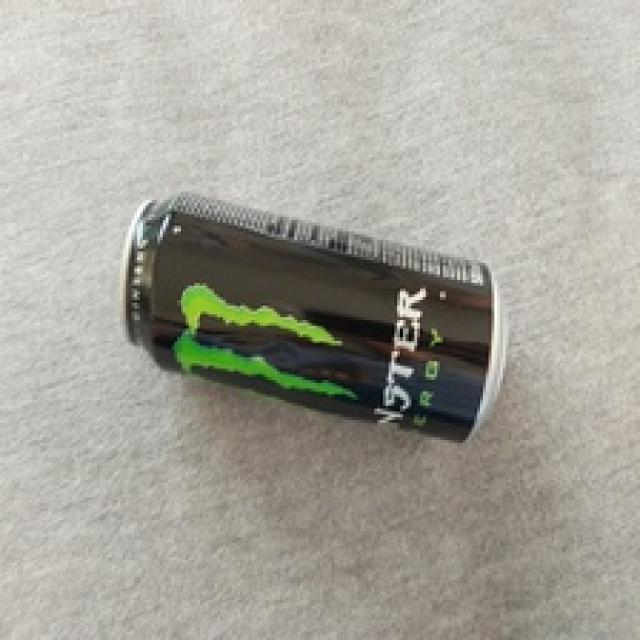recyclable: (120, 192, 510, 446)
